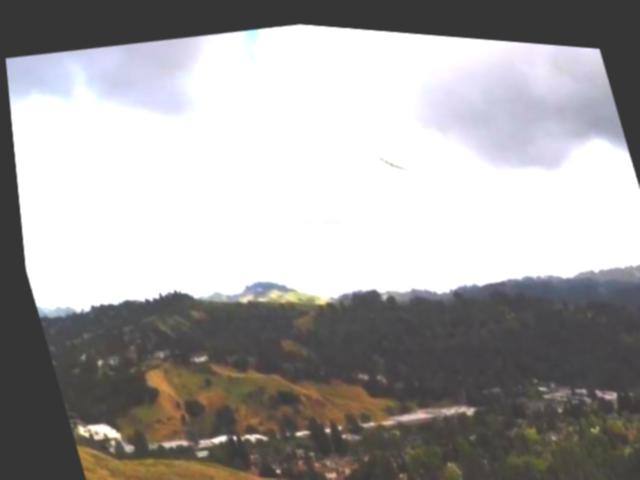iha: (374, 144, 410, 172)
